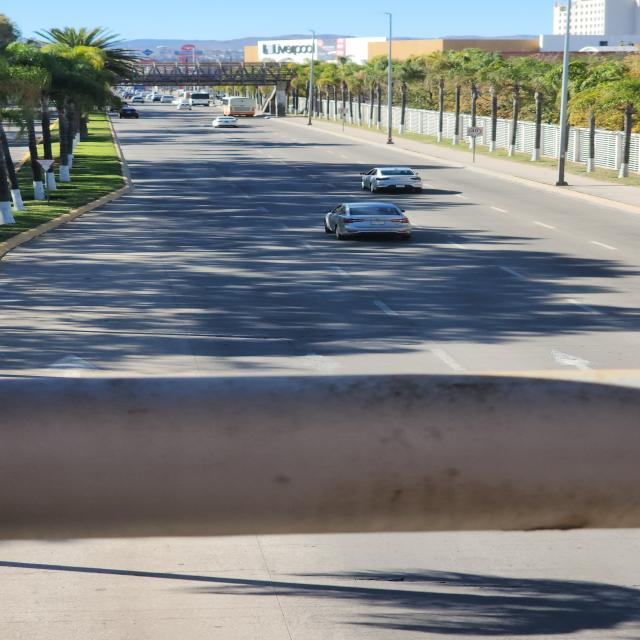Auto: (324, 202, 413, 244), (362, 167, 424, 193), (223, 97, 256, 118), (191, 91, 211, 108), (120, 107, 140, 120), (160, 94, 174, 104), (179, 101, 193, 110), (109, 111, 120, 121)
